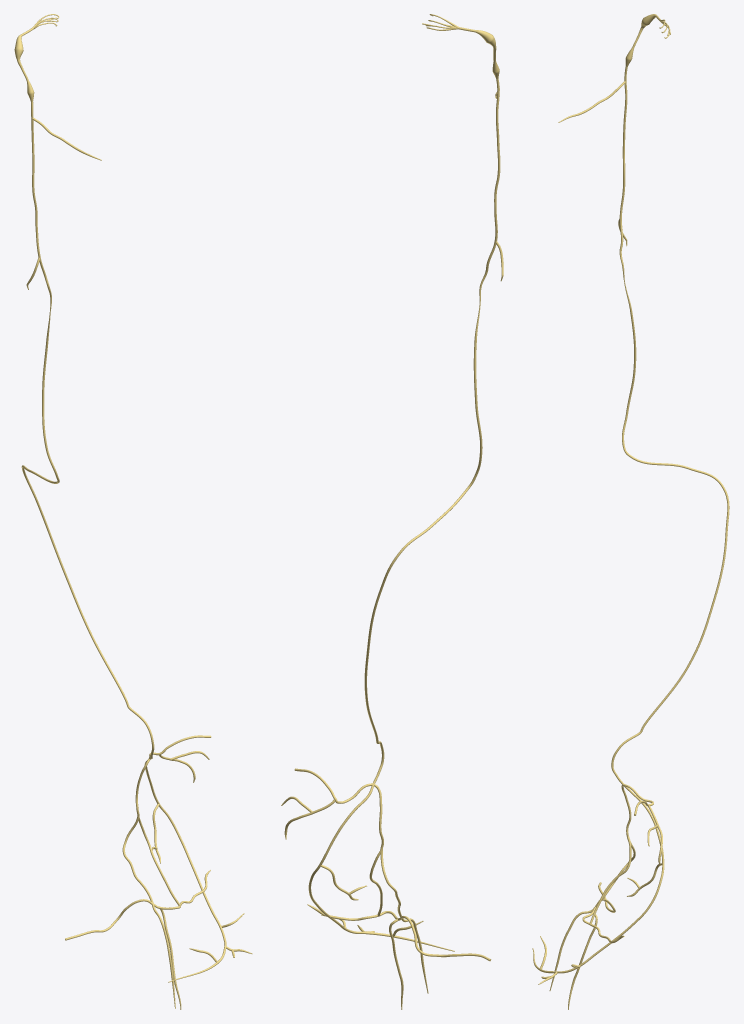
3 renders of one model, left to right at view 1: azimuth 30°, elevation 25°; view 2: azimuth 150°, elevation 25°; view 3: azimuth 270°, elevation 25°, orthographic. The views are drawn at different scales.
Parts seen in each view (by area): view 1: ZA_b50e8234ce8fbe65; view 2: ZA_b50e8234ce8fbe65; view 3: ZA_b50e8234ce8fbe65.
Boxes of the visible parts, x1,y1,x2,y2 form: ZA_b50e8234ce8fbe65: (14,14,252,1009); ZA_b50e8234ce8fbe65: (281,14,503,1009); ZA_b50e8234ce8fbe65: (532,14,729,1009).
Size of the model in its own units: 0.0988 by 0.4709 by 0.0886.
